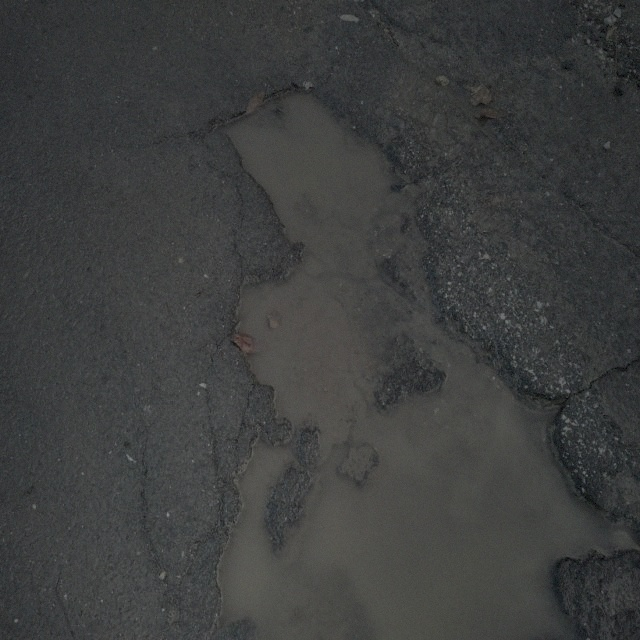pothole: (201, 68, 599, 600)
